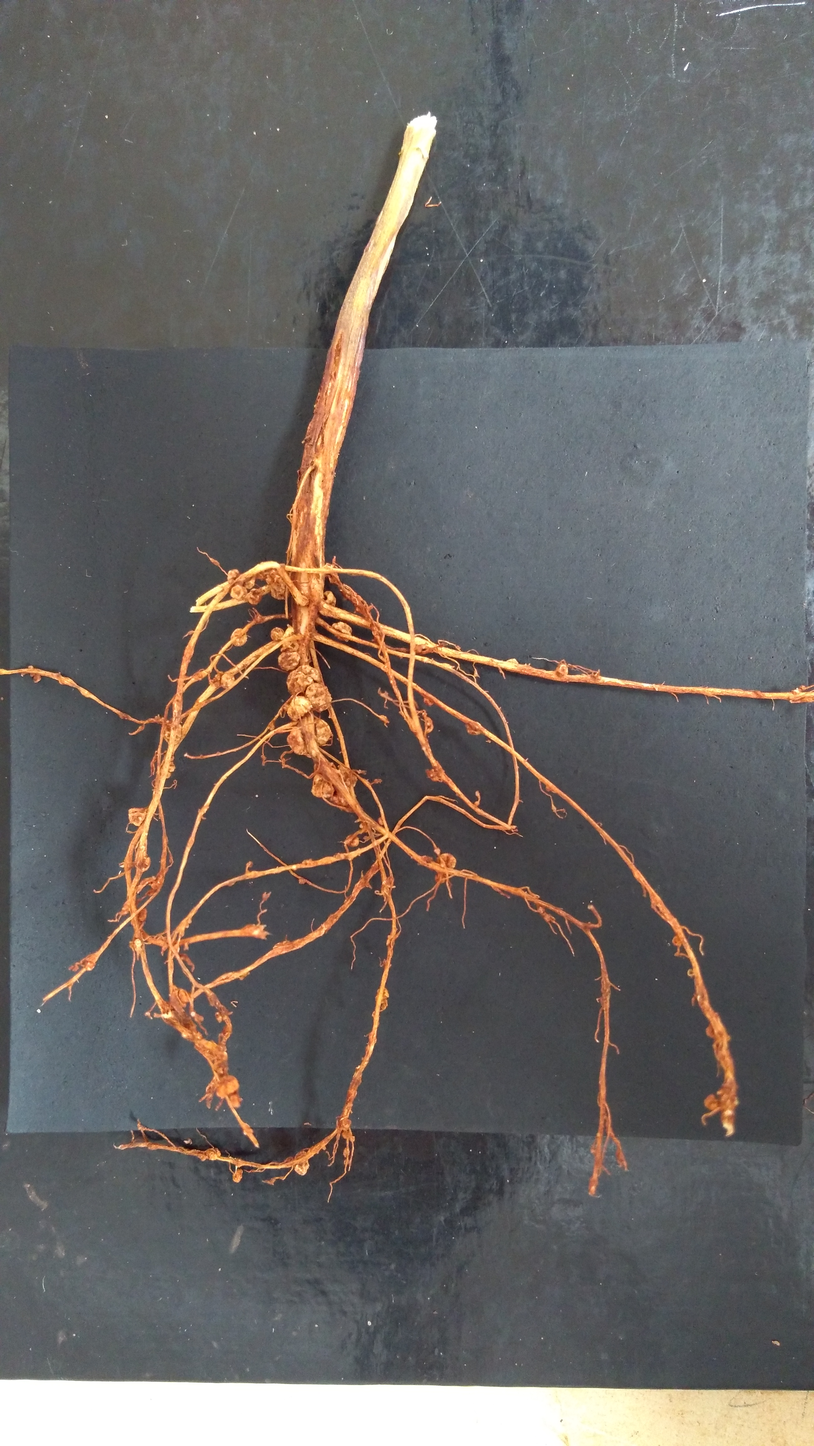nodule: (286, 664, 322, 695), (305, 682, 332, 712), (287, 724, 311, 755), (434, 852, 457, 883), (266, 572, 291, 599), (287, 696, 313, 721), (311, 773, 335, 798), (255, 561, 281, 584), (216, 1074, 240, 1098), (329, 790, 353, 812), (162, 719, 182, 745), (315, 717, 333, 745), (337, 765, 358, 787), (212, 1050, 229, 1075), (278, 650, 299, 670), (170, 986, 190, 1007), (213, 671, 236, 689), (332, 622, 352, 642), (293, 1151, 309, 1176), (160, 753, 175, 779), (128, 807, 148, 826), (703, 1093, 722, 1112), (375, 987, 390, 1010), (230, 628, 247, 647), (380, 876, 394, 899), (425, 767, 445, 783), (325, 562, 339, 584), (230, 584, 248, 601), (272, 940, 293, 954), (421, 711, 434, 733), (245, 588, 262, 604), (280, 638, 299, 652), (322, 590, 336, 608), (464, 721, 482, 735), (205, 1147, 221, 1161), (150, 872, 164, 888), (227, 569, 240, 586), (281, 624, 294, 641), (705, 1022, 718, 1039), (85, 953, 97, 971), (215, 1011, 233, 1022), (271, 627, 285, 641), (229, 1093, 242, 1108), (244, 573, 256, 589), (345, 834, 359, 847), (555, 663, 568, 677), (417, 854, 432, 866), (339, 1118, 352, 1131), (341, 1130, 355, 1142), (232, 1168, 243, 1183), (243, 1122, 254, 1136), (140, 857, 150, 871), (138, 907, 147, 922), (423, 695, 435, 706), (672, 935, 682, 947), (27, 665, 36, 677), (359, 822, 368, 833), (134, 938, 143, 949), (33, 673, 42, 684), (193, 671, 203, 680), (379, 714, 390, 722), (506, 658, 520, 664), (343, 1146, 350, 1157), (302, 859, 313, 865), (377, 817, 385, 825), (298, 877, 307, 884), (269, 721, 275, 731), (433, 847, 440, 855), (246, 861, 253, 868), (545, 785, 552, 792), (356, 594, 362, 602), (474, 800, 480, 807), (199, 754, 203, 758)
